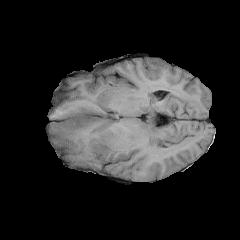glioma: (50, 114, 117, 161)
